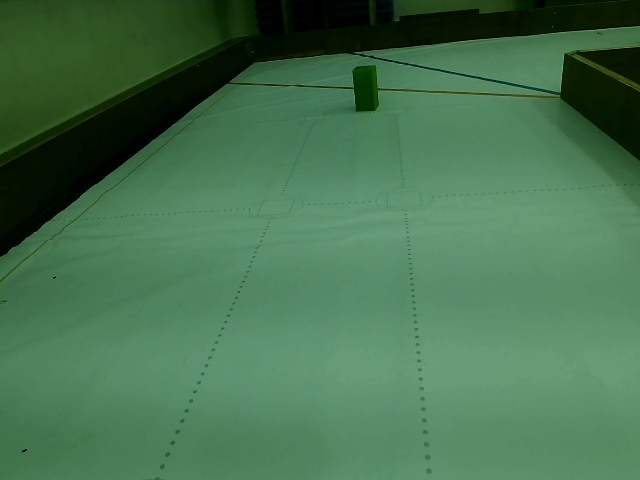green: (353, 65, 378, 111)
